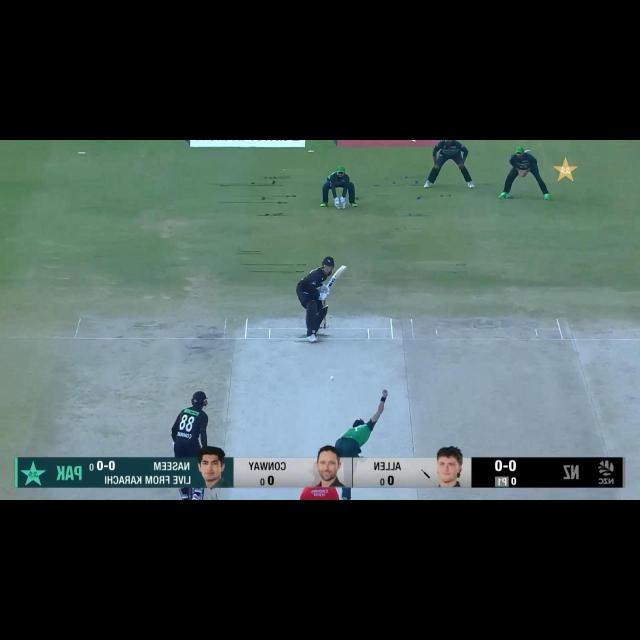bat: (326, 265, 346, 289)
toe: (338, 265, 348, 271)
